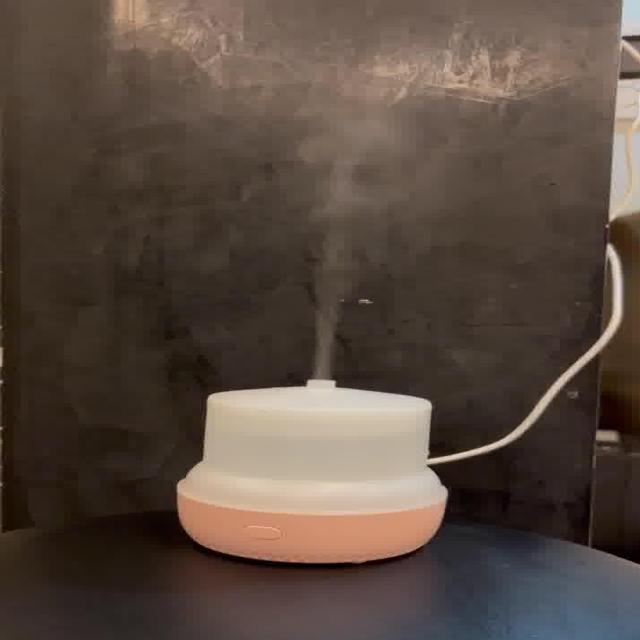fire: (298, 110, 477, 376)
